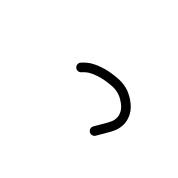a: (69, 55, 145, 148)
